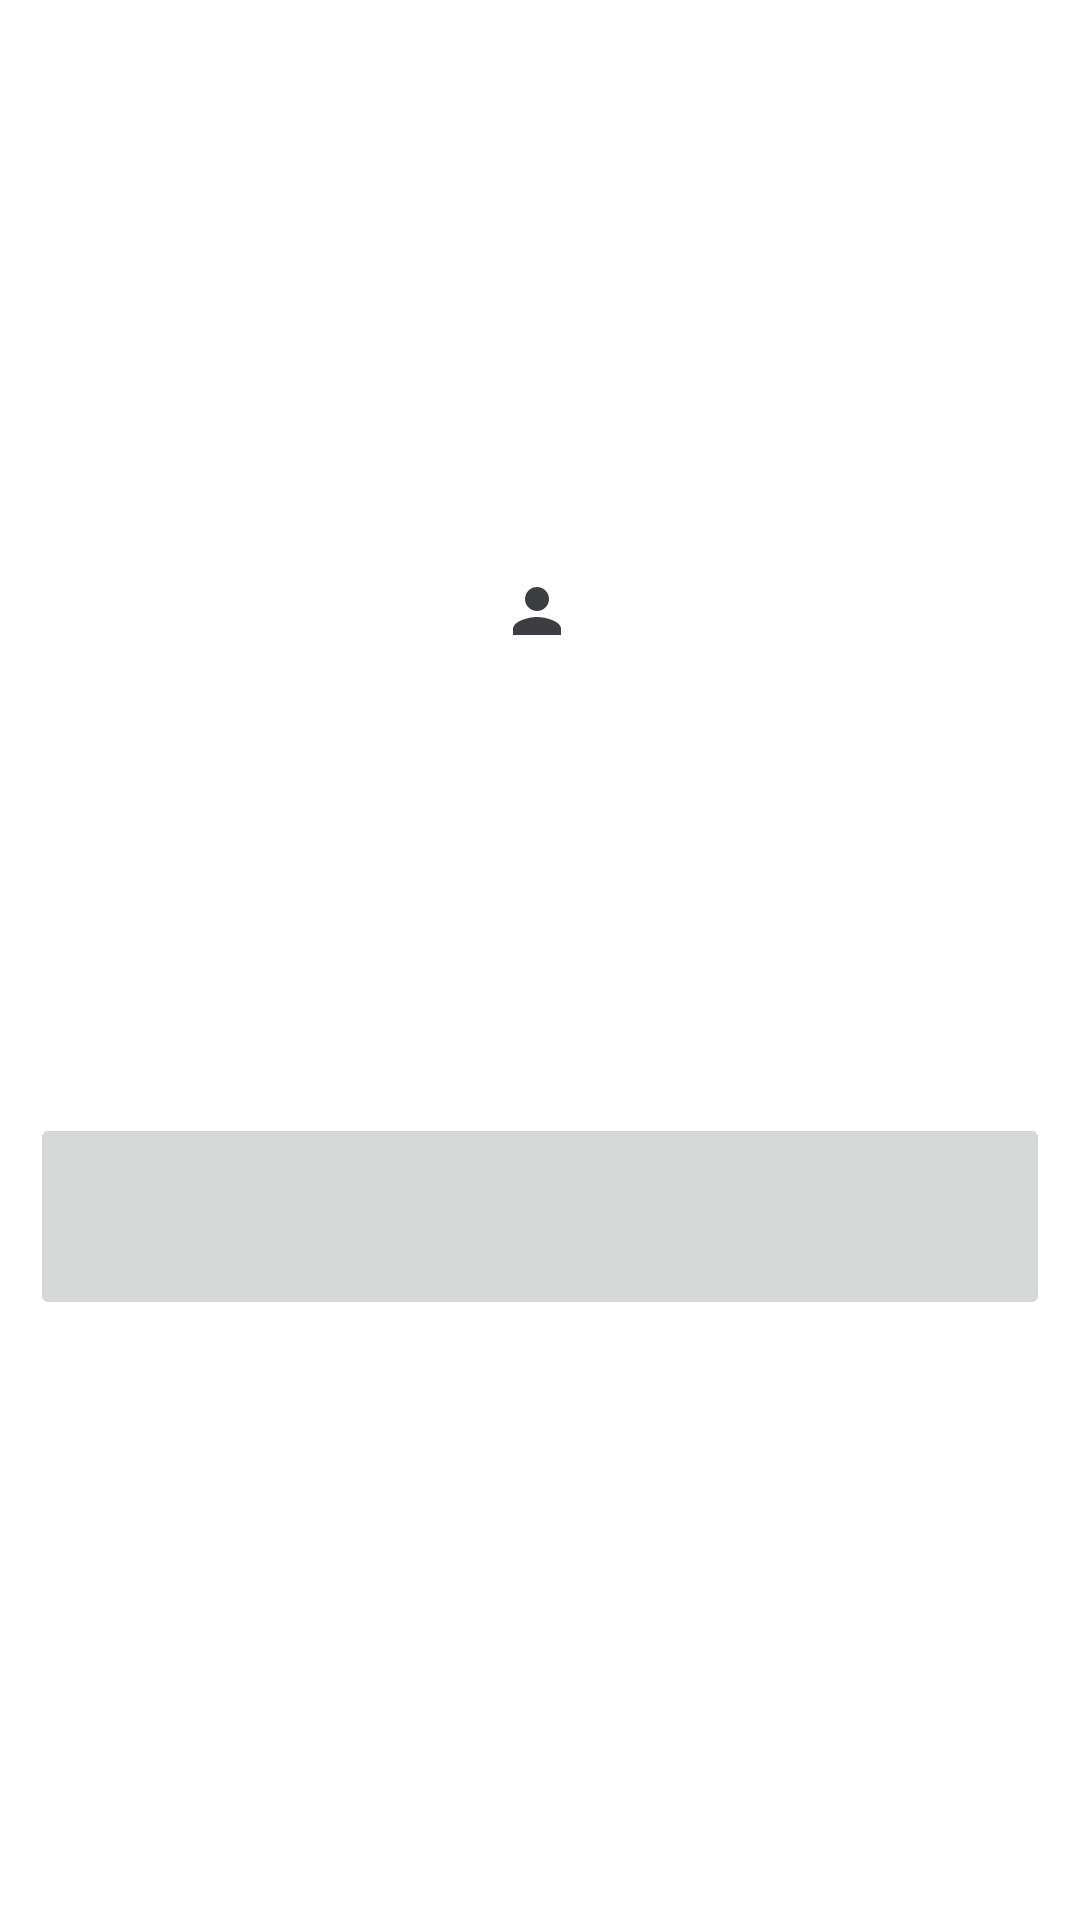

Where to tap for icons on this 1080px×1920px app screen, as [x,y]:
person: [537,611]
